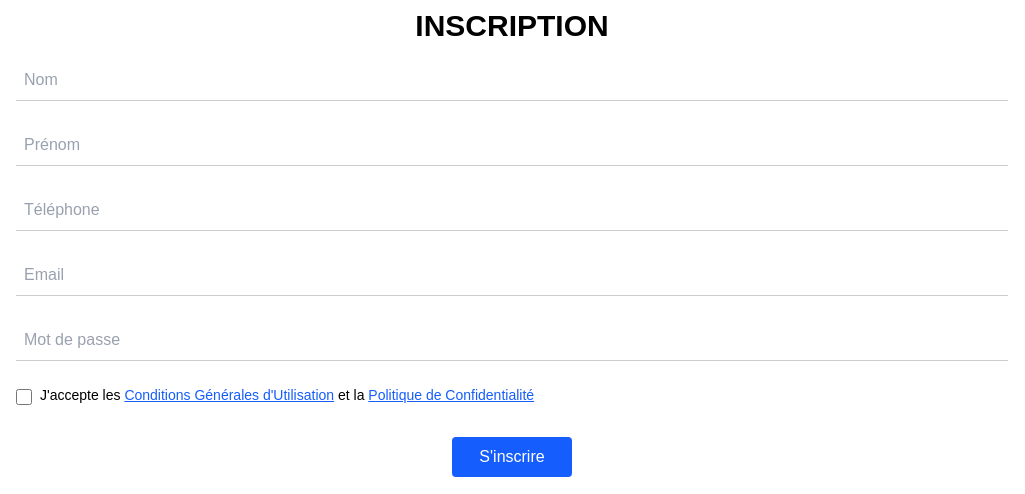
Test case: RegisterClientForm › appelle registerClient avec les bonnes données
Type "test@example.com" into the field with placeholder "Email". click: (512, 276)
box: 16,255 -> 1008,296
Type "@Password12345" into the password field with placeholder "Mot de passe". click: (512, 340)
box: 16,320 -> 1008,361
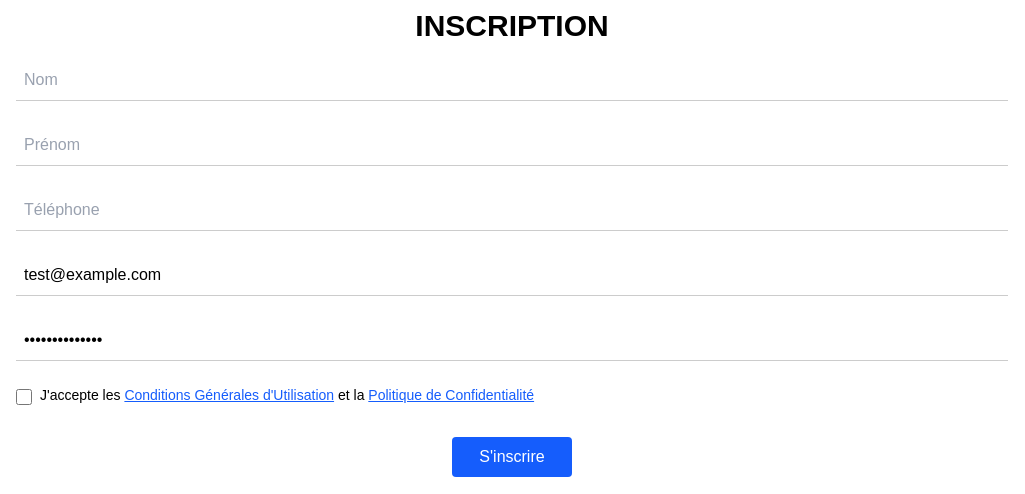
Type "Doe" into the field with placeholder "Nom". click: (512, 80)
box: 16,60 -> 1008,101
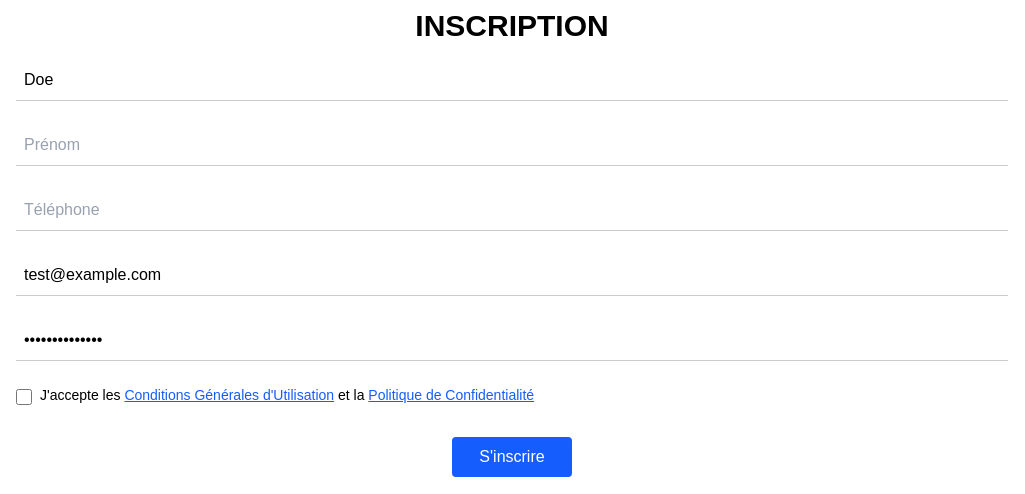
Type "John" into the field with placeholder "Prénom". click: (512, 146)
box: 16,125 -> 1008,166
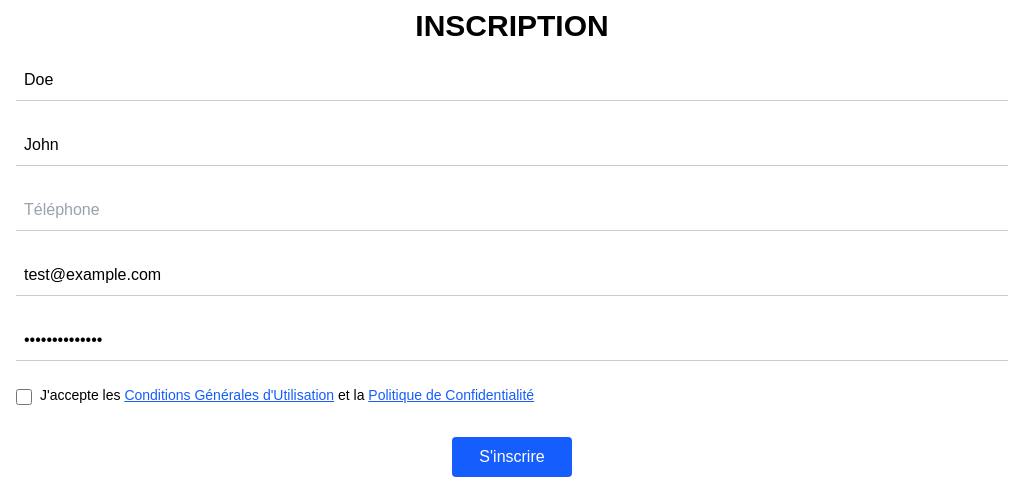
Type "0123456789" into the field with placeholder "Téléphone". click: (512, 210)
box: 16,190 -> 1008,231
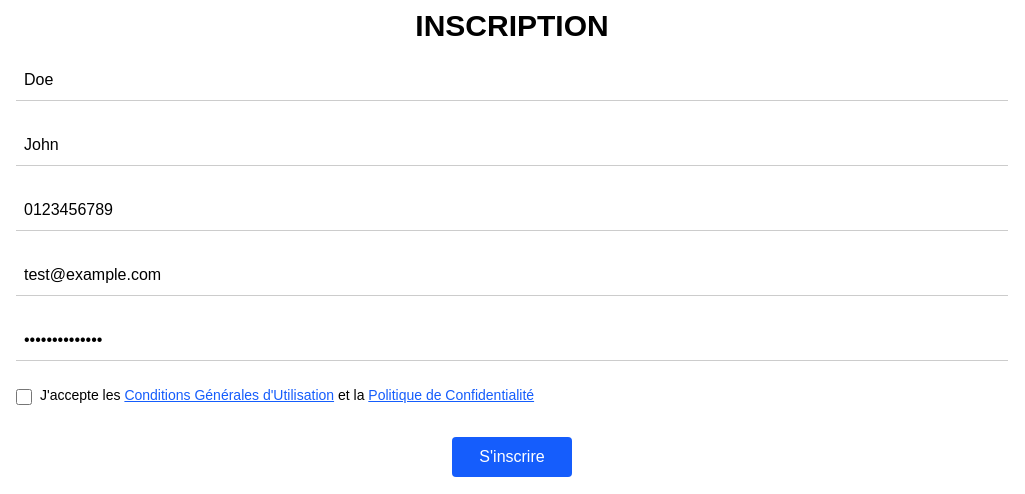
Click the checkbox. click: (24, 397)
box: 16,389 -> 32,405
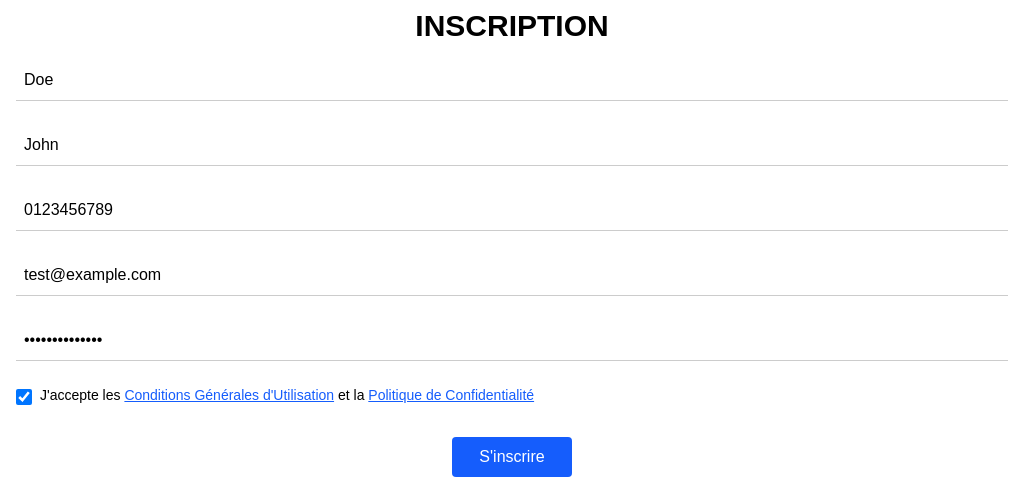
Click the button "S'inscrire". click: (512, 457)
box: 452,437 -> 572,477
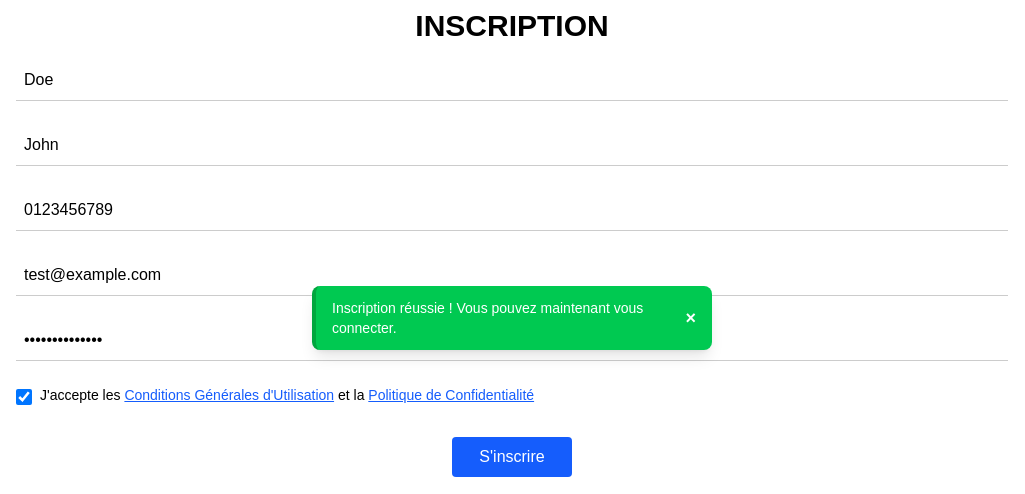
Result: the text "Inscription réussie ! Vous pouvez maintenant vous connecter." is shown at 332,298 -> 674,338
